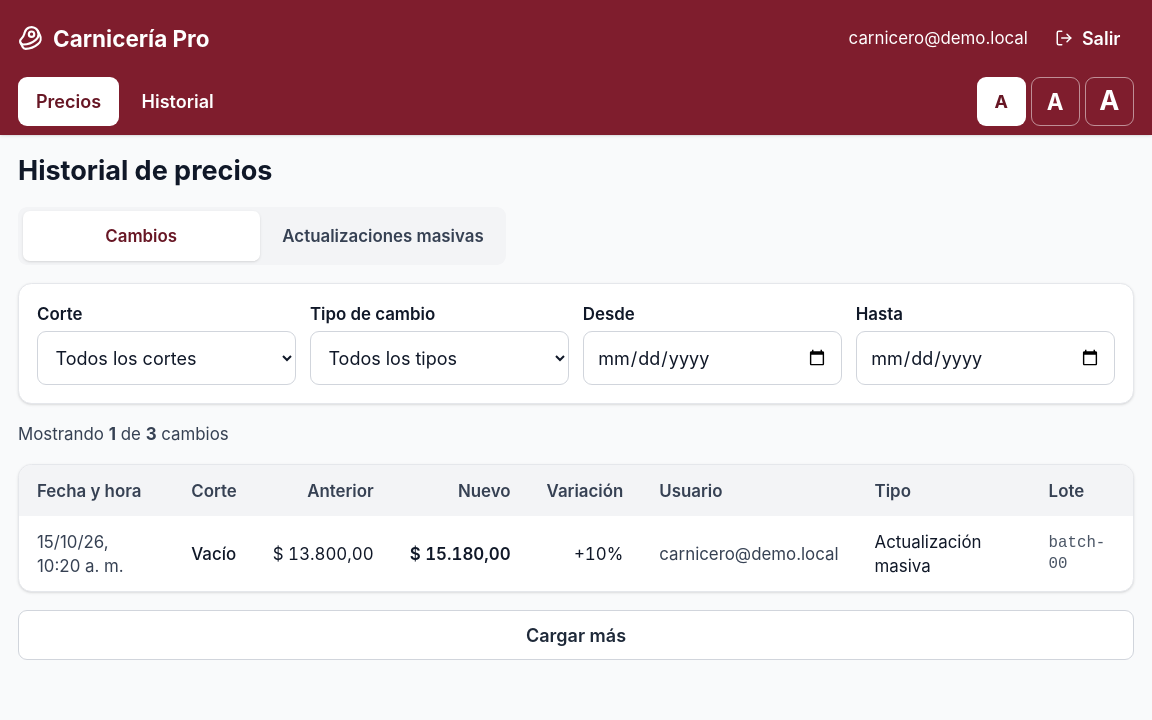
HistoryPage › carga más resultados
Click the button "Cargar más" at (576, 635), box [18, 610, 1134, 660]
(page scrolled)
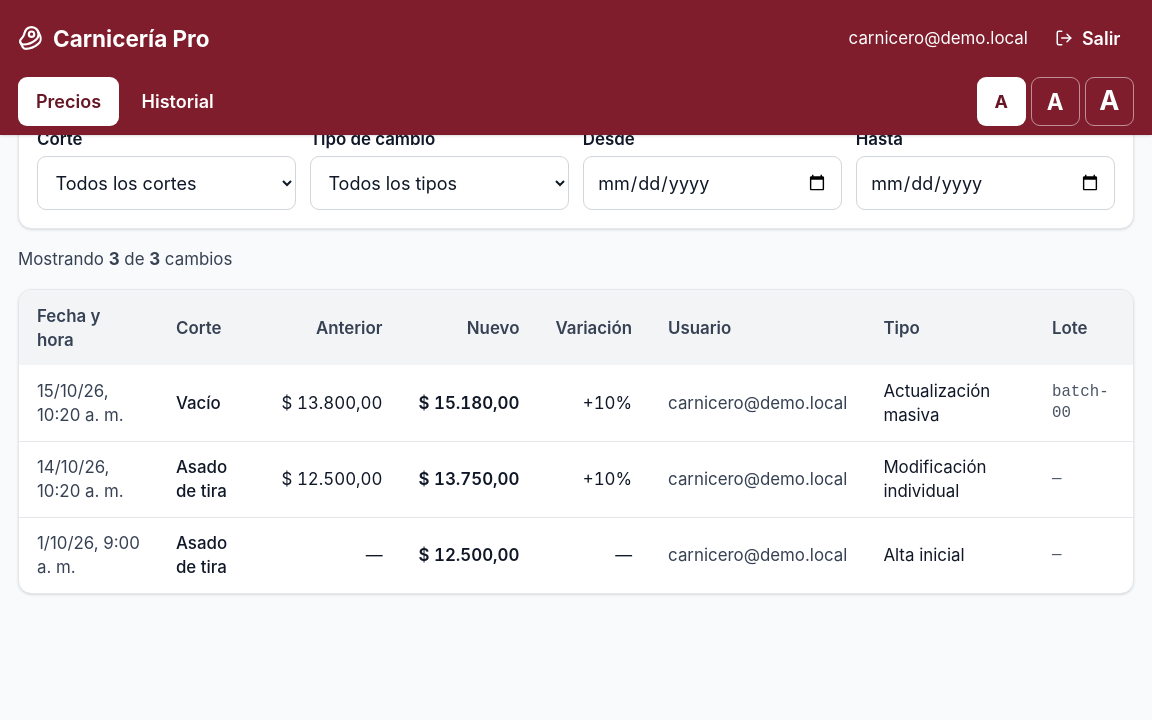
Expected: the text "Alta inicial" is shown, [865, 517, 1034, 593]
